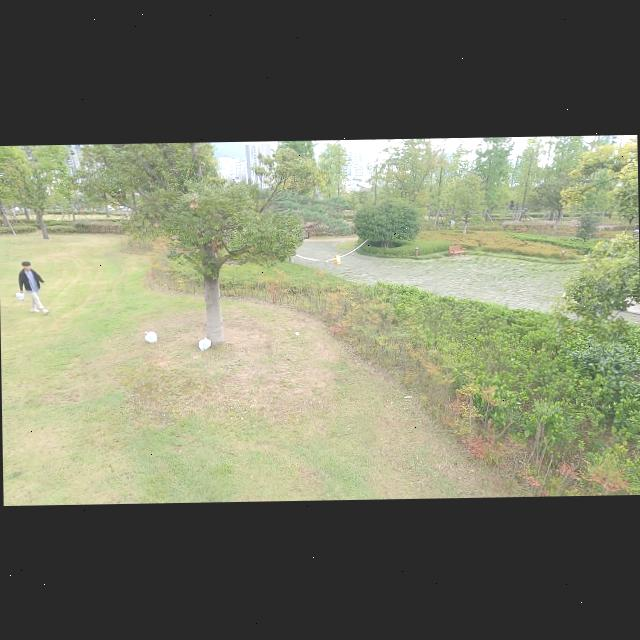trash: (15, 258, 50, 314)
